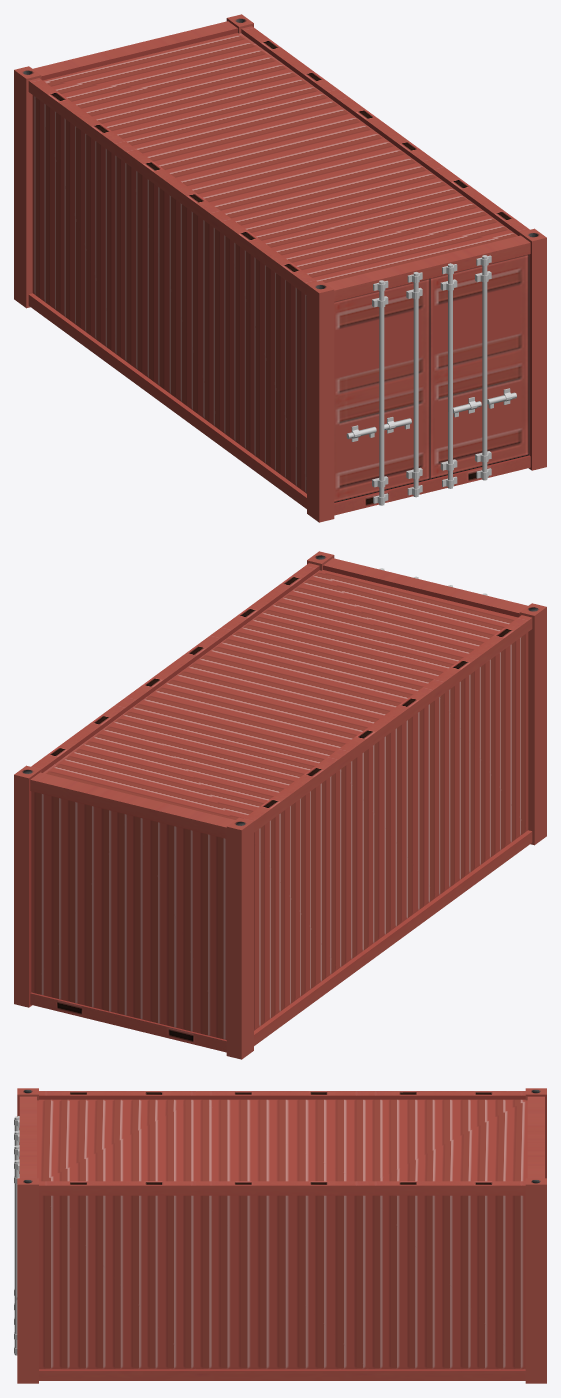
File: Container.fbx
3 views of the same model, one above another, from view 1: azimuth 30°, elevation 25°; view 2: azimuth 150°, elevation 25°; view 3: azimuth 270°, elevation 25° (orthographic). The views are drawn at different scales.
Visible parts, largest first — view 1: group13; view 2: group13; view 3: group13.
Boxes of the visible parts, left/top/right/bottom form: group13: left=14, top=14, right=546, bottom=522; group13: left=14, top=551, right=546, bottom=1059; group13: left=14, top=1088, right=546, bottom=1383.
Bounding box in the file's own units: 2.65 × 2.55 × 6.19.
